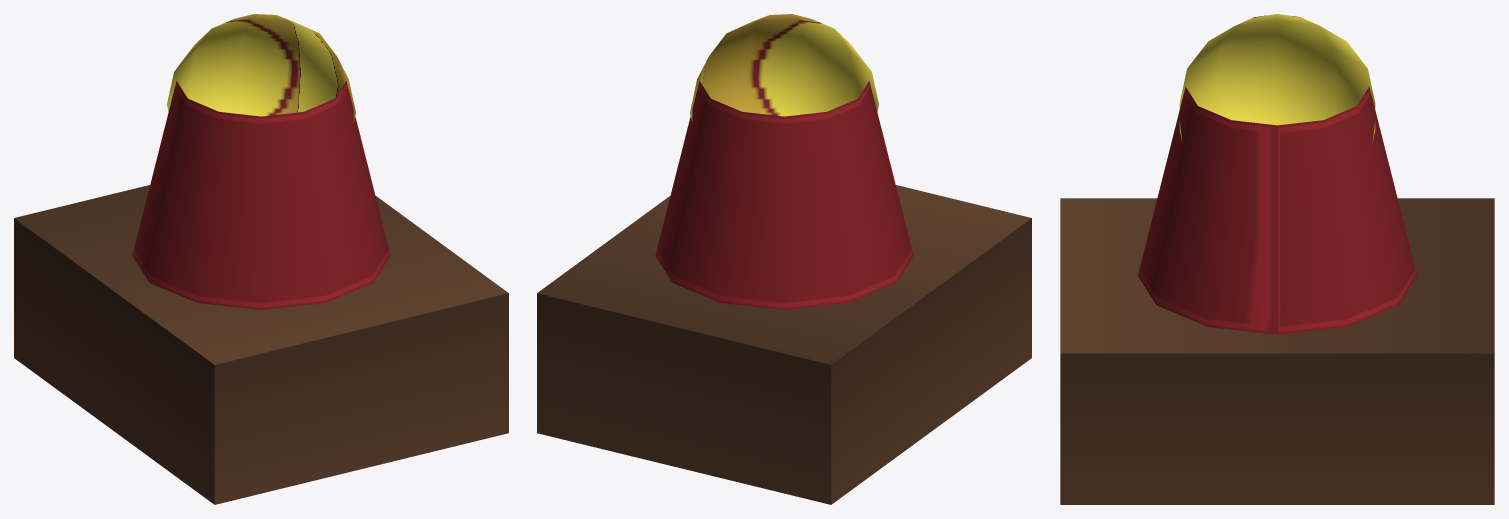
The model's file is royal_canopy_bed.glb.
3 renders of one model, left to right at view 1: azimuth 30°, elevation 25°; view 2: azimuth 150°, elevation 25°; view 3: azimuth 270°, elevation 25°, orthographic. The views are drawn at different scales.
Visible parts, largest first — view 1: royal_canopy_bed; view 2: royal_canopy_bed; view 3: royal_canopy_bed.
Part boxes in pixels (left/top/right/bottom): royal_canopy_bed: left=14, top=14, right=508, bottom=504; royal_canopy_bed: left=537, top=14, right=1031, bottom=504; royal_canopy_bed: left=1060, top=14, right=1494, bottom=504.
Bounding box in the file's own units: 2.2 × 2.67 × 2.6.
Materials: 1 (1 with a texture image).
